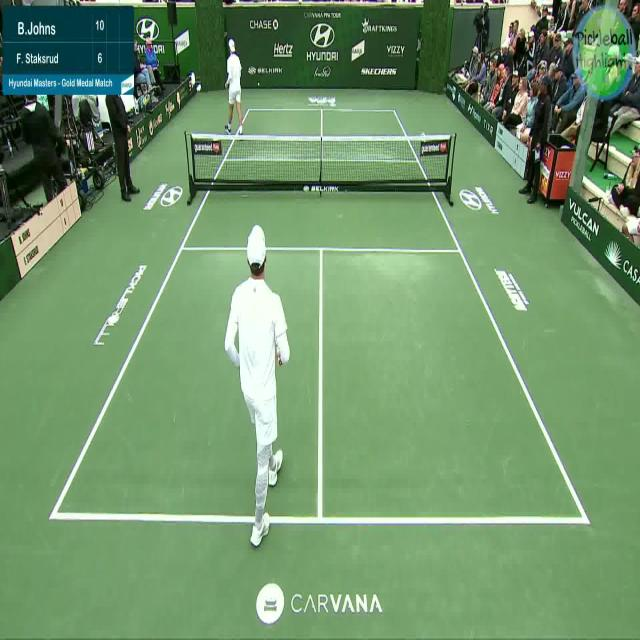ball: (257, 81, 260, 86)
